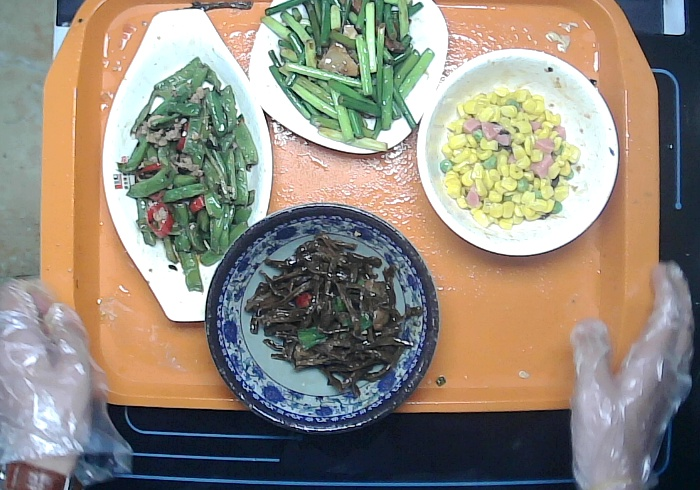ZNLD-Qing_Hua_Wan: (206, 205, 441, 435)
ZNLD-Si_Fang_Wan: (245, 7, 451, 157)
ZNLD-Tang_Wan: (415, 46, 622, 257)
ZNLD-Yu_Pan: (102, 5, 278, 325)
